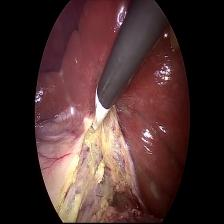Hook: (82, 89, 114, 141)
